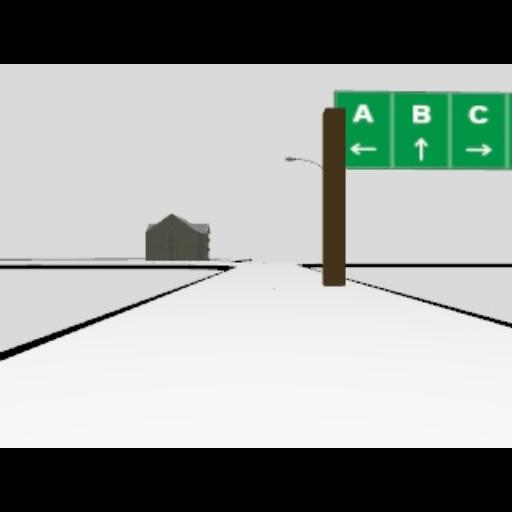A: (352, 102, 372, 124)
B: (412, 104, 430, 124)
C: (468, 104, 488, 124)
Left: (348, 142, 378, 156)
Right: (464, 142, 492, 156)
Straight: (413, 136, 427, 160)
